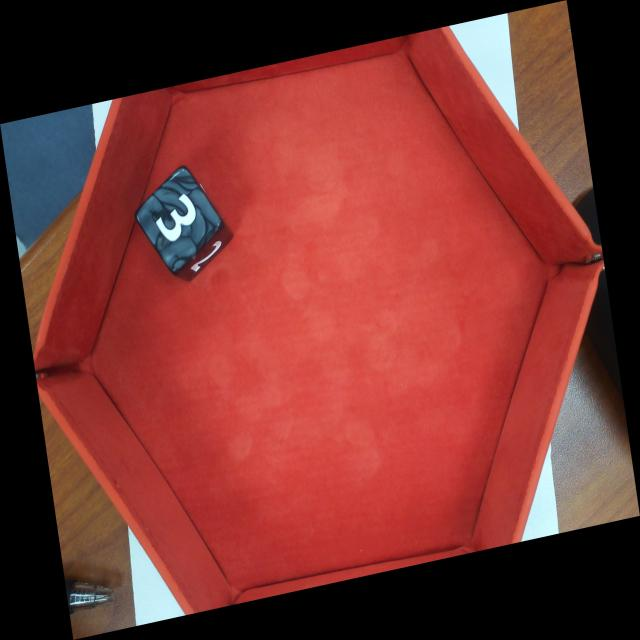dice: (141, 164, 220, 270)
